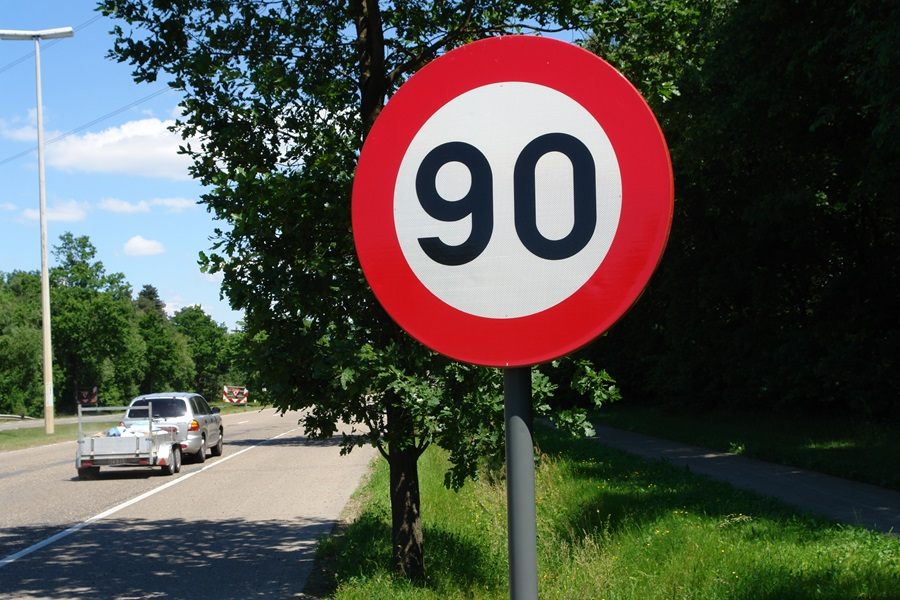Speed_limit_90km: (349, 34, 674, 363)
